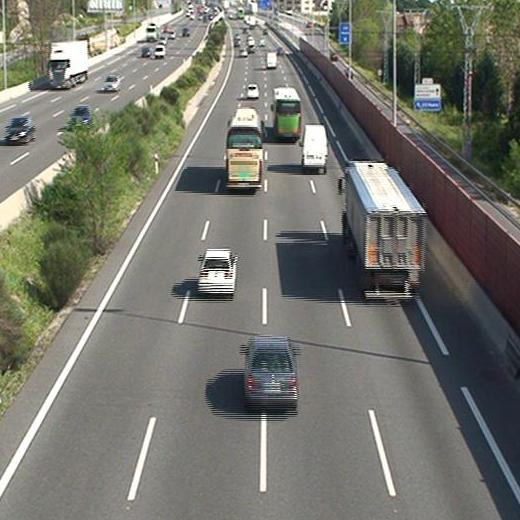bus: (226, 109, 262, 187), (272, 89, 300, 139)
car: (242, 337, 299, 404), (199, 250, 237, 294), (245, 84, 258, 98), (237, 48, 246, 58)
truck: (341, 162, 426, 300)
van: (300, 125, 328, 168), (266, 52, 278, 68)
